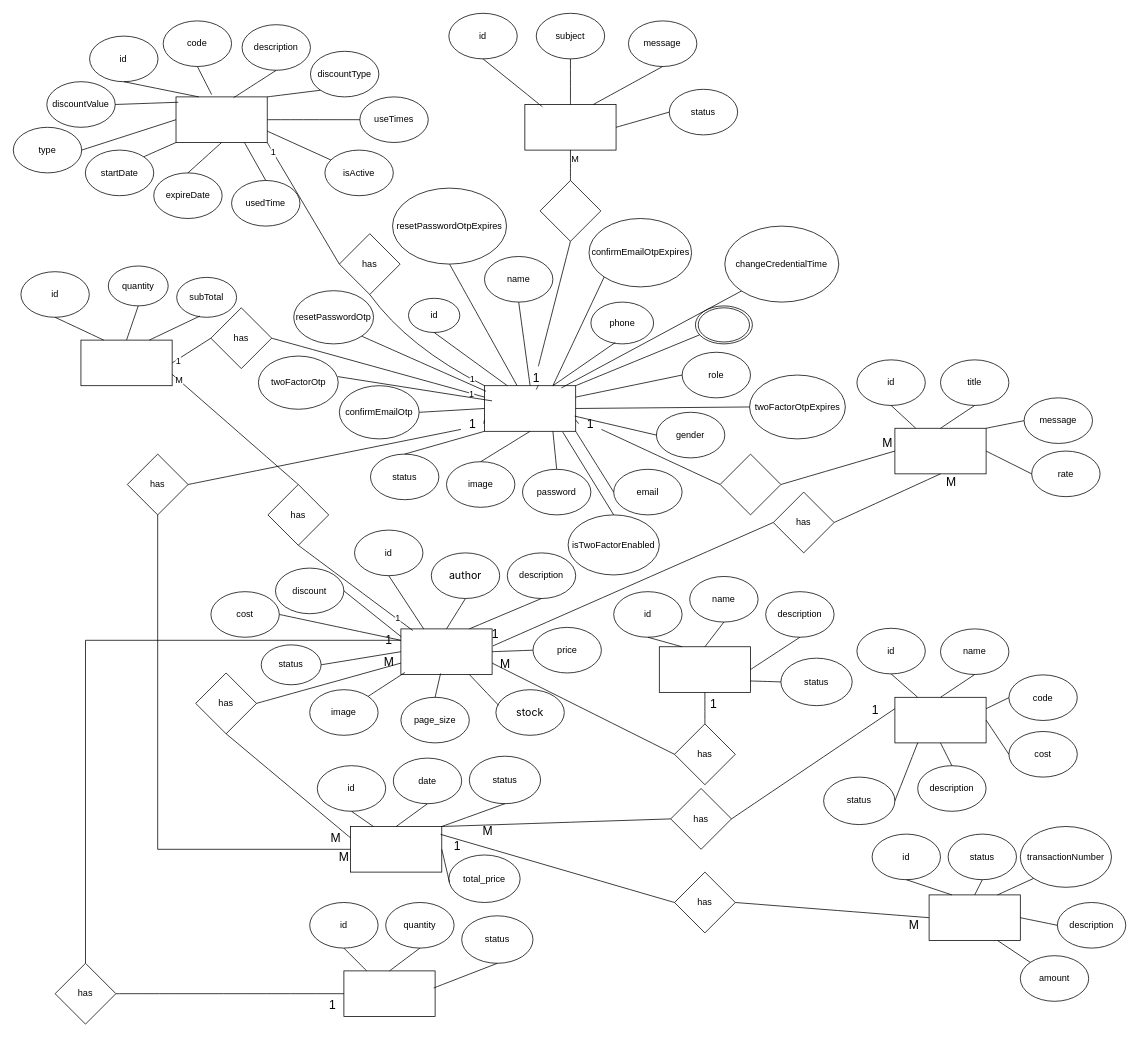
Some shapes in this 1139 by 1037 pixel diagram are drawn without their labels. Each missing label, with the box of its shape:
add: (719, 453, 781, 515)
address: (697, 307, 750, 342)
Book: (400, 628, 492, 674)
Cart: (80, 339, 172, 386)
Category: (659, 646, 750, 692)
Coupon: (175, 96, 267, 142)
Inventory: (343, 970, 435, 1016)
make: (539, 180, 601, 241)
Order: (350, 826, 442, 872)
Review: (894, 428, 986, 474)
Shipment: (894, 697, 986, 743)
Ticket: (524, 104, 616, 150)
Transaction: (928, 894, 1020, 940)
User: (484, 385, 576, 431)
